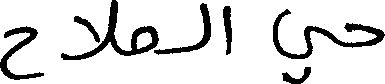ا: (221, 3, 230, 55)
ح: (0, 24, 37, 80), (344, 21, 383, 48)
ز: (128, 24, 157, 56)
ل: (60, 0, 117, 60), (198, 0, 212, 48)
ي: (270, 6, 321, 82)
